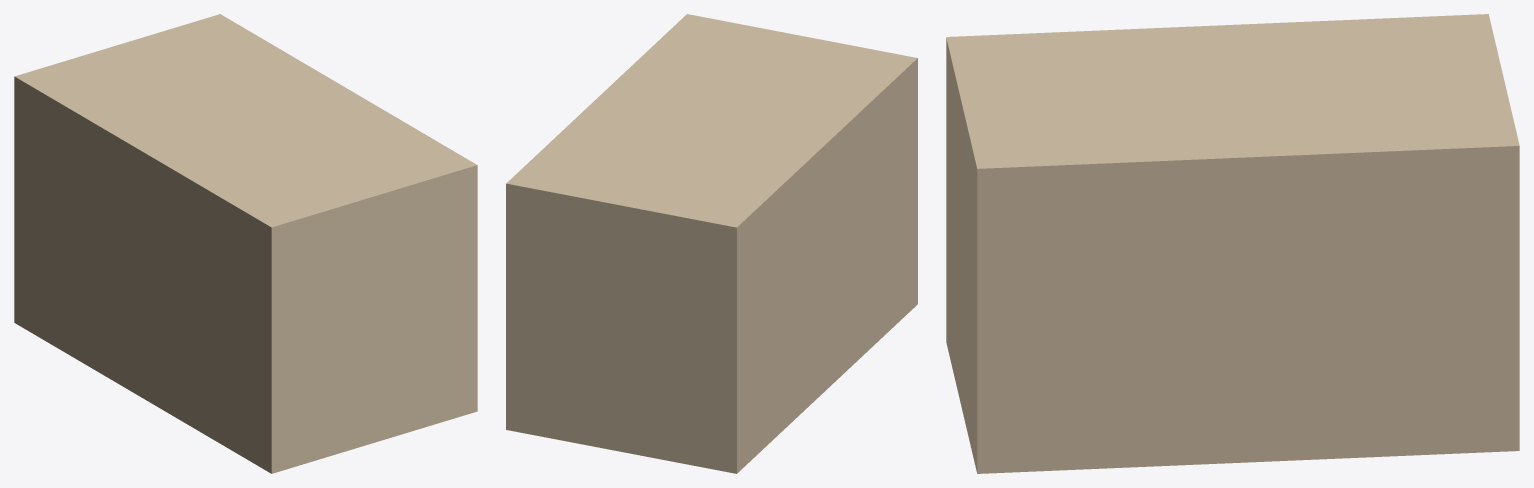
3 renders of one model, left to right at view 1: azimuth 30°, elevation 25°; view 2: azimuth 150°, elevation 25°; view 3: azimuth 270°, elevation 25°, orthographic. The views are drawn at different scales.
Visible parts, largest first — view 1: SM_8450dfe3478a0be1a987; view 2: SM_8450dfe3478a0be1a987; view 3: SM_8450dfe3478a0be1a987.
Boxes of the visible parts, x1,y1,x2,y2 form: SM_8450dfe3478a0be1a987: (14,14,477,473); SM_8450dfe3478a0be1a987: (506,14,917,473); SM_8450dfe3478a0be1a987: (946,14,1519,473).
Bounding box in the file's own units: 13.07 × 20.44 × 12.
